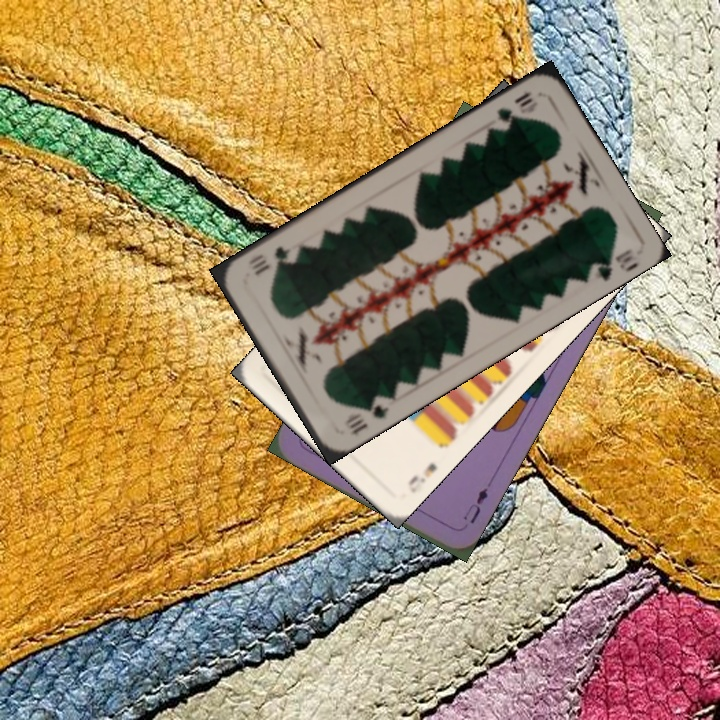E9: (404, 458, 440, 496)
EU: (459, 483, 491, 527)
G10: (340, 395, 392, 439), (493, 86, 536, 126)
